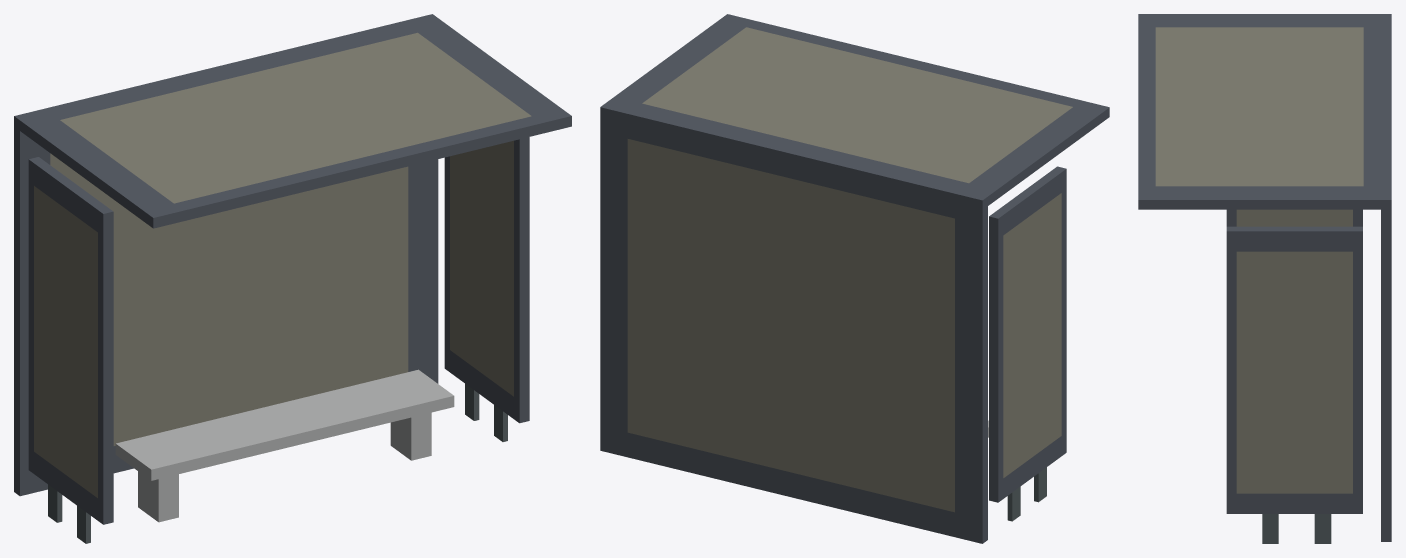
Rendered from bus stand.FBX.
3 views of the same model, side by side, from view 1: azimuth 30°, elevation 25°; view 2: azimuth 150°, elevation 25°; view 3: azimuth 270°, elevation 25° (orthographic). The views are drawn at different scales.
Visible parts, largest first — view 1: bus stand; view 2: bus stand; view 3: bus stand.
Boxes of the visible parts, <box> form: bus stand: <box>14,14,571,543</box>; bus stand: <box>600,14,1109,543</box>; bus stand: <box>1138,14,1391,543</box>.
Bounding box in the file's own units: 13.75 × 11.59 × 7.78.
